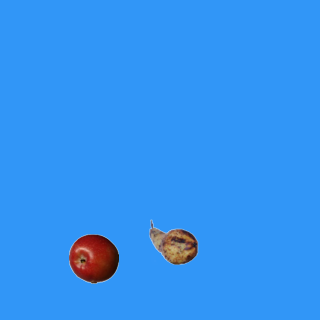Apple Braeburn: (68, 233, 118, 283)
Pear Abate: (148, 217, 198, 267)
